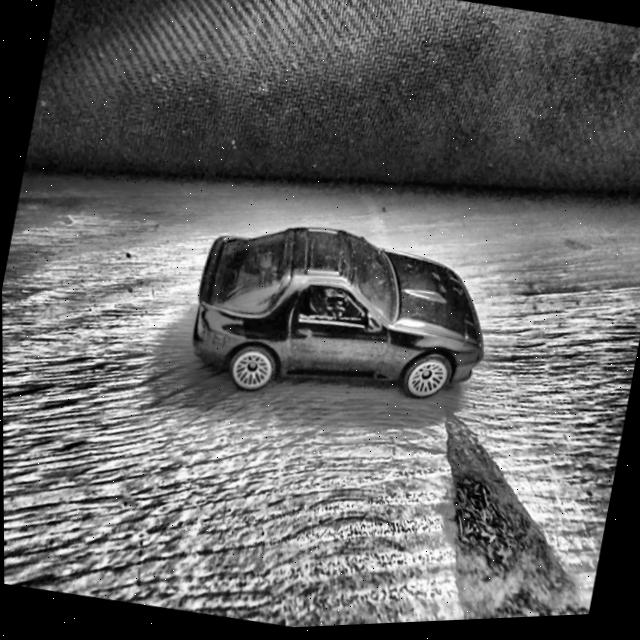car: (180, 201, 503, 439)
